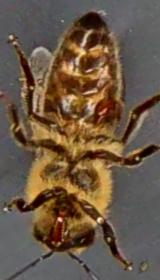varroa_mite: (82, 86, 125, 130)
